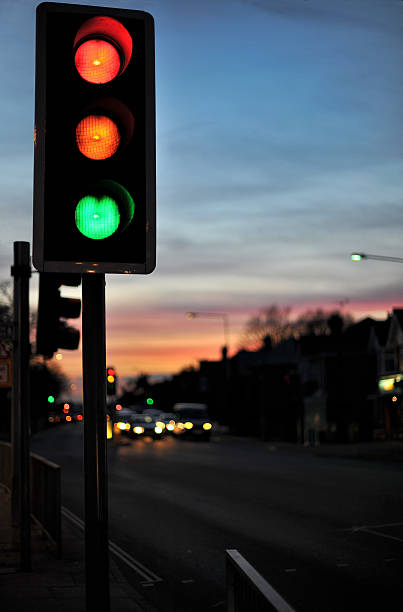trafficlight: (16, 1, 171, 277)
